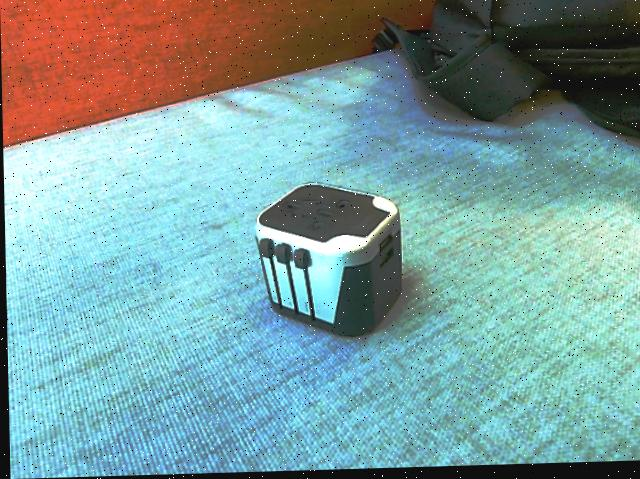adapter: (252, 182, 403, 341)
